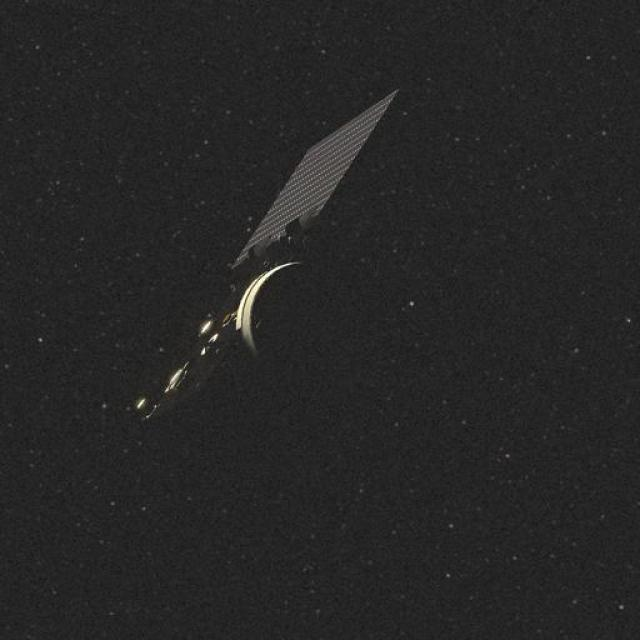proba_3_csc: (127, 94, 423, 418)
